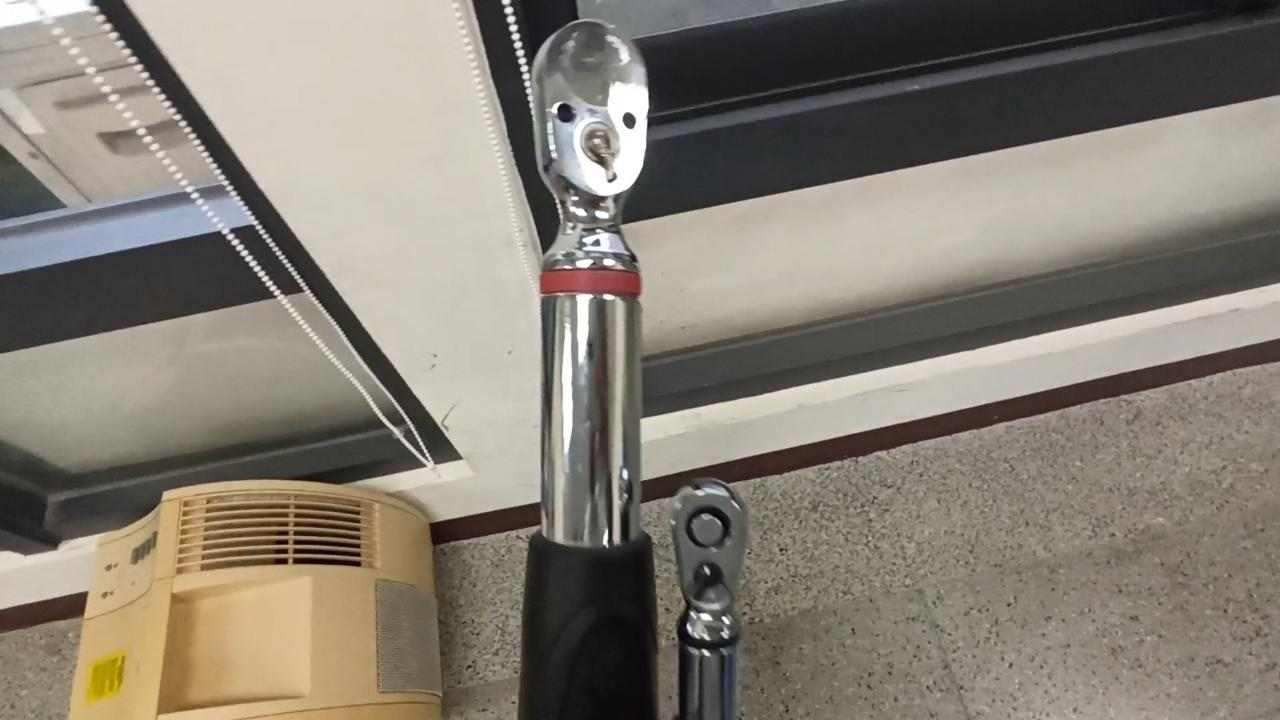Tool: (522, 19, 668, 255), (670, 474, 751, 628)
